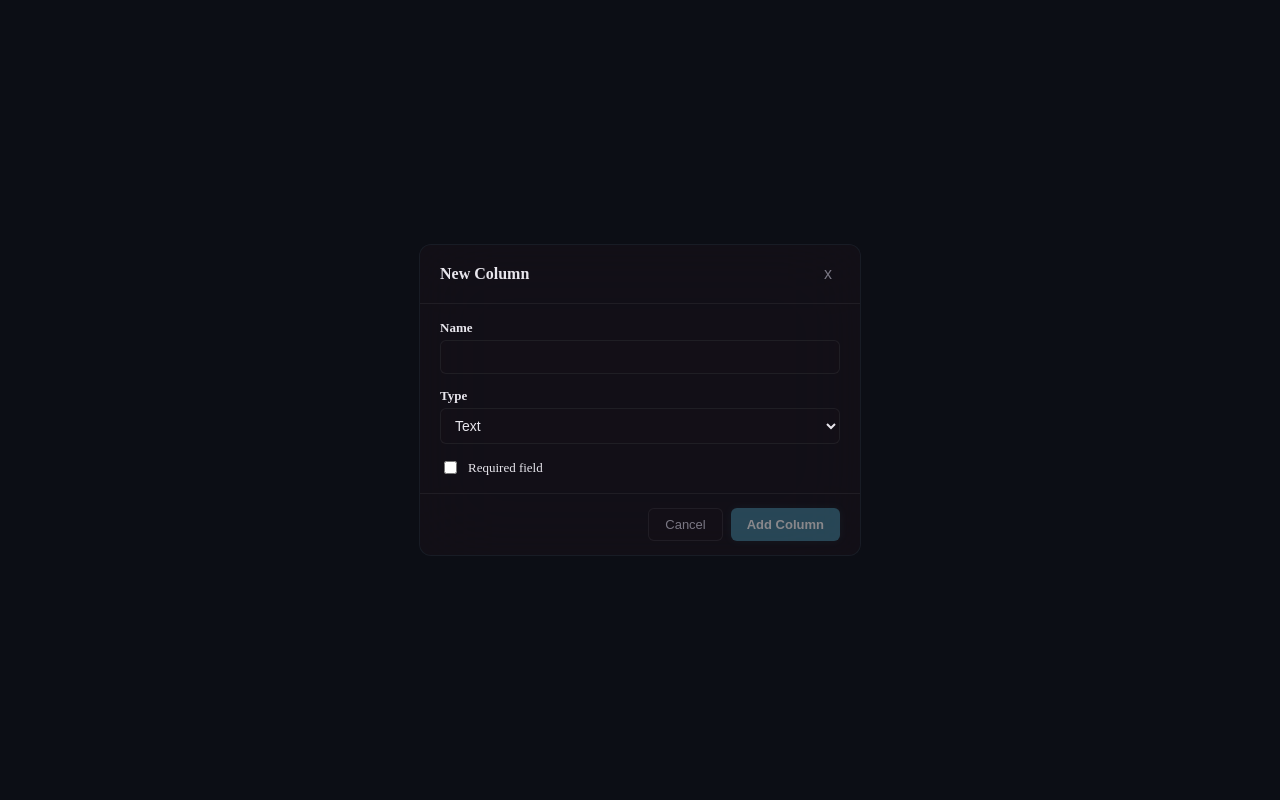
Test: ColumnEditor › shows select options section when type is select
Select "Select" in the dropdown with test id "column-type": (640, 426) [440,408,840,444]
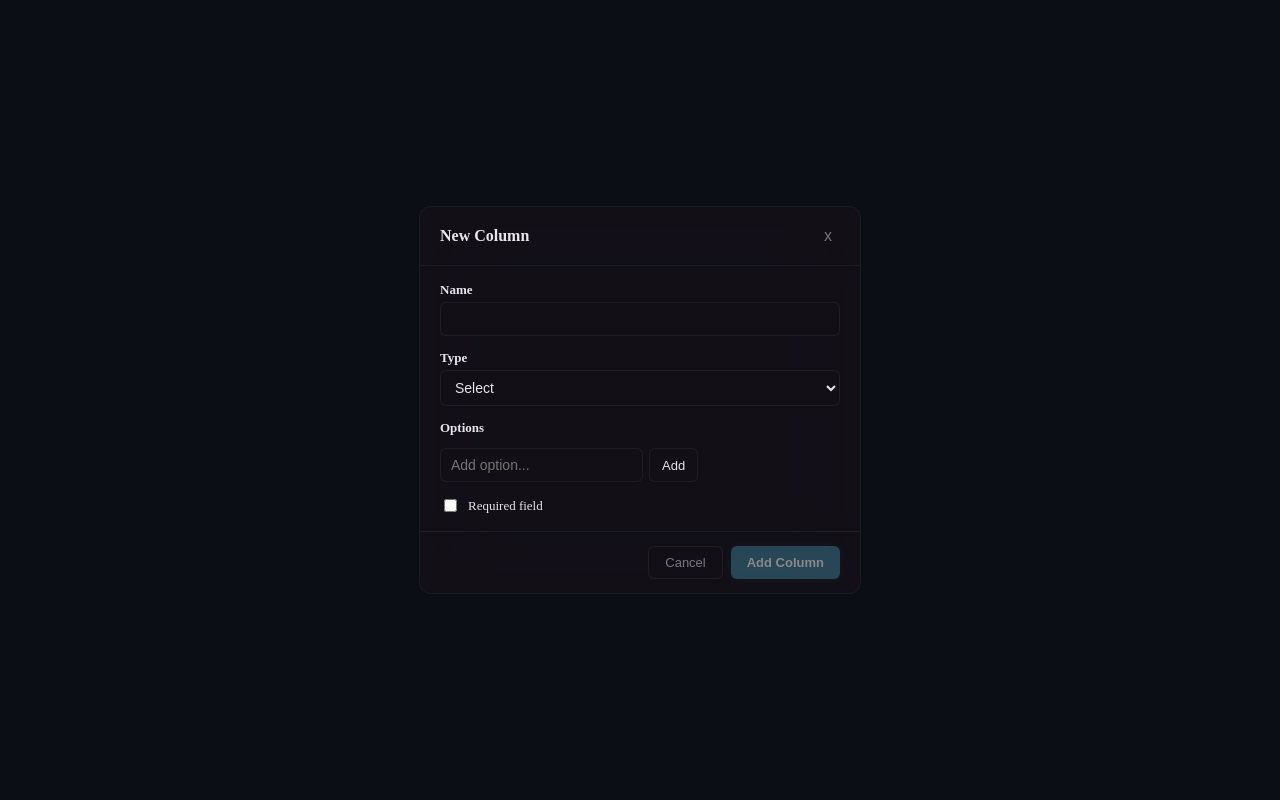
Now the field with test id "option-input" is shown, box [440,448,643,482]
Now the button "Add" is shown, box [649,448,698,482]
